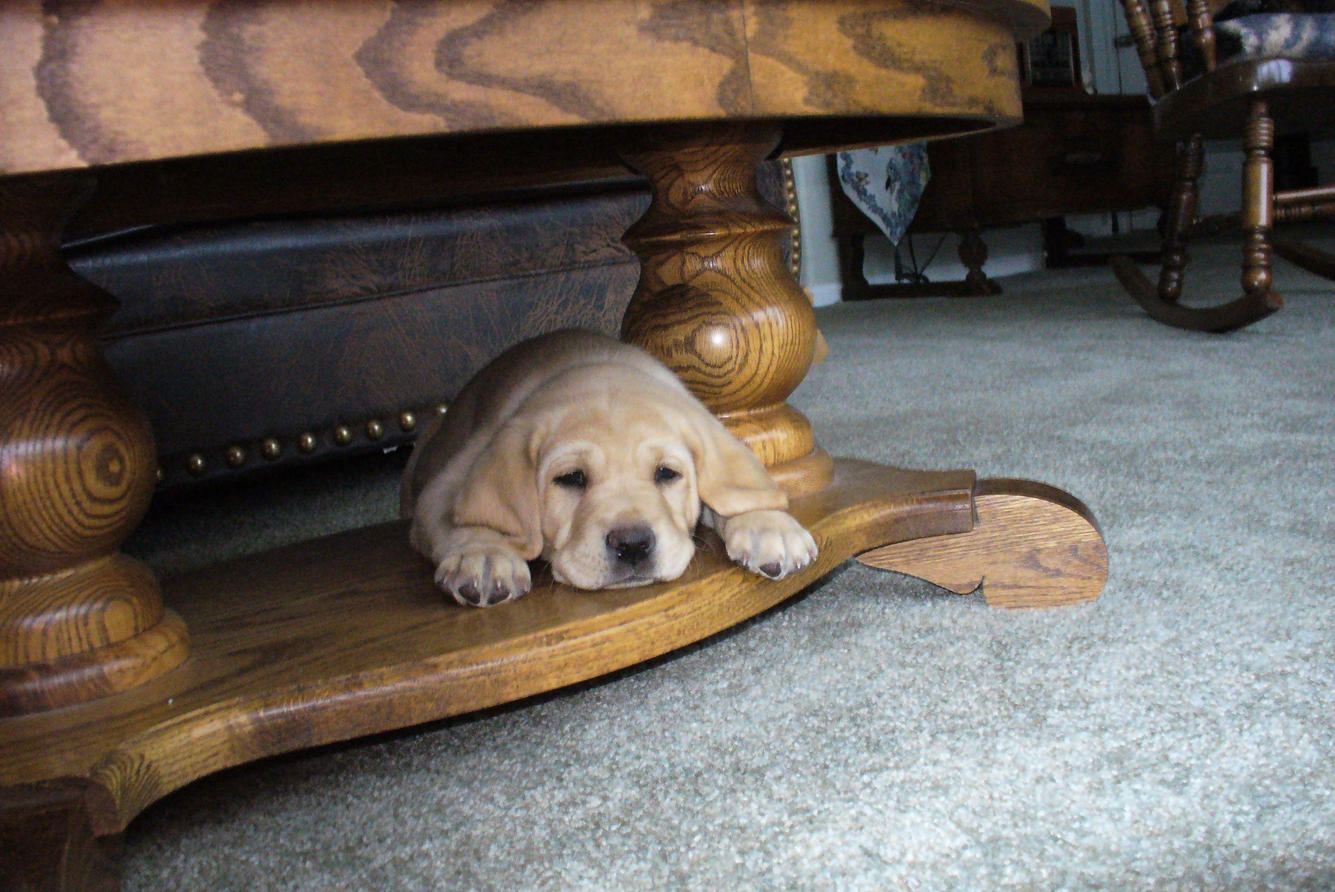puppy-dog: (399, 326, 821, 608)
